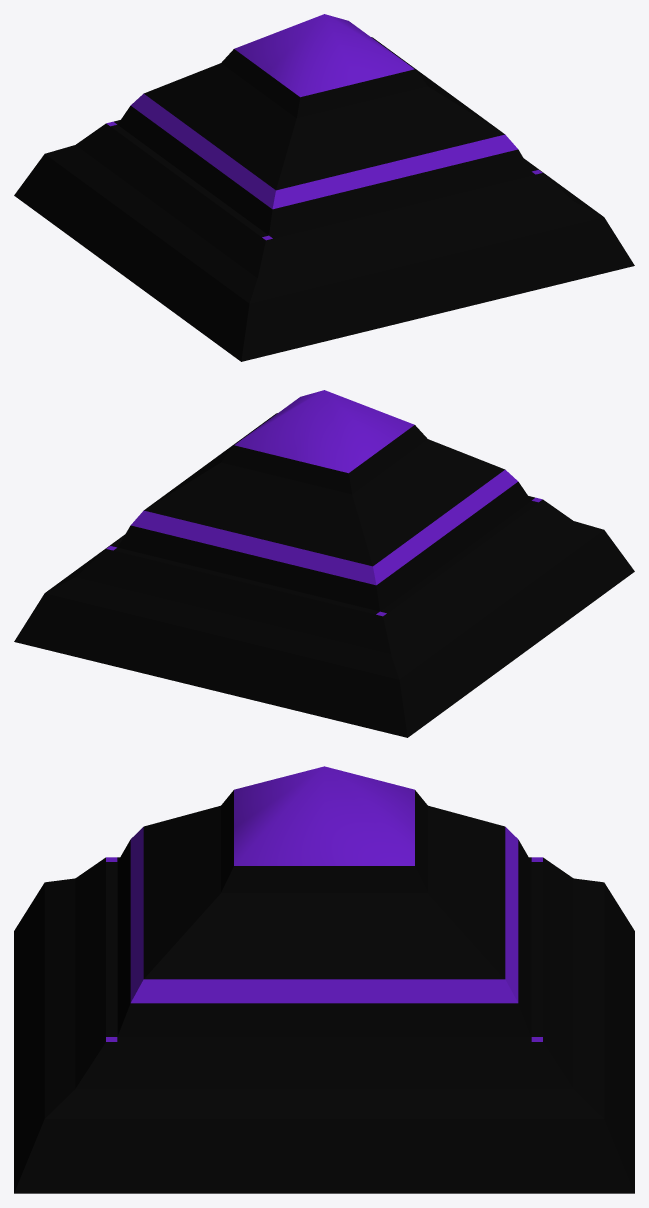
File: Temple 7.fbx
3 renders of one model, top to bottom at view 1: azimuth 30°, elevation 25°; view 2: azimuth 150°, elevation 25°; view 3: azimuth 270°, elevation 25°, orthographic. The views are drawn at different scales.
Parts seen in each view (by area): view 1: Temple 7; view 2: Temple 7; view 3: Temple 7.
Boxes of the visible parts, x1=… form: Temple 7: x1=14, y1=14, x2=634, y2=361; Temple 7: x1=14, y1=390, x2=634, y2=737; Temple 7: x1=14, y1=766, x2=634, y2=1193.
Size of the model in its own units: 60 by 31.56 by 60.
Materials: 2 (2 with a texture image).
